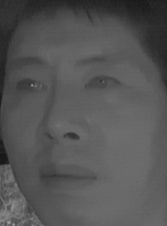eye: (11, 72, 49, 99), (82, 72, 119, 98)
mouth: (37, 155, 98, 193)
